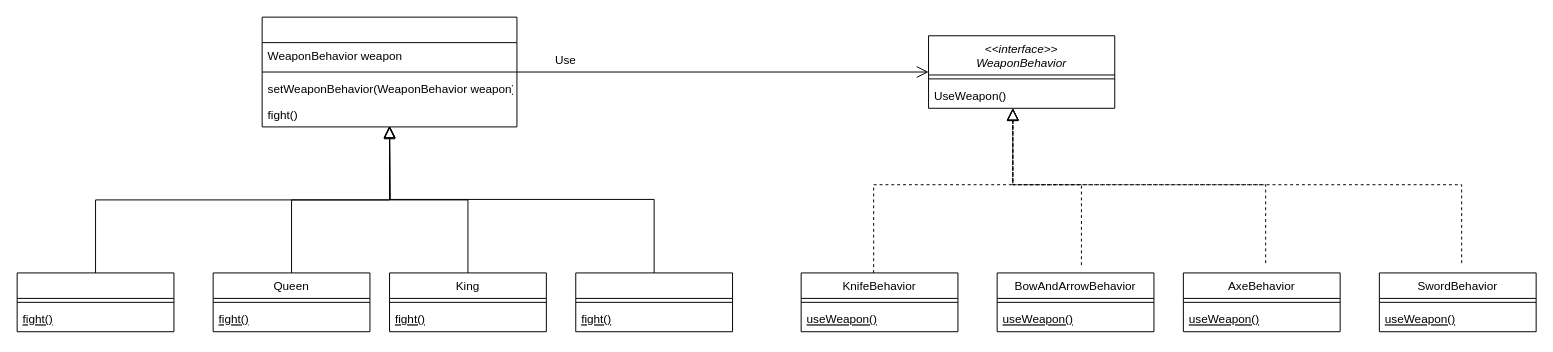
The diagram is 1553 pixels wide and 352 high, and some of its shapes have lost their labels. The shapes that lost their labels are listed below. From the top down, each one's box as (x1, y1, x2, y2) in pixels, then its label:
(261, 16, 517, 127): Character
(16, 272, 174, 332): Troll
(575, 272, 733, 332): Knight
